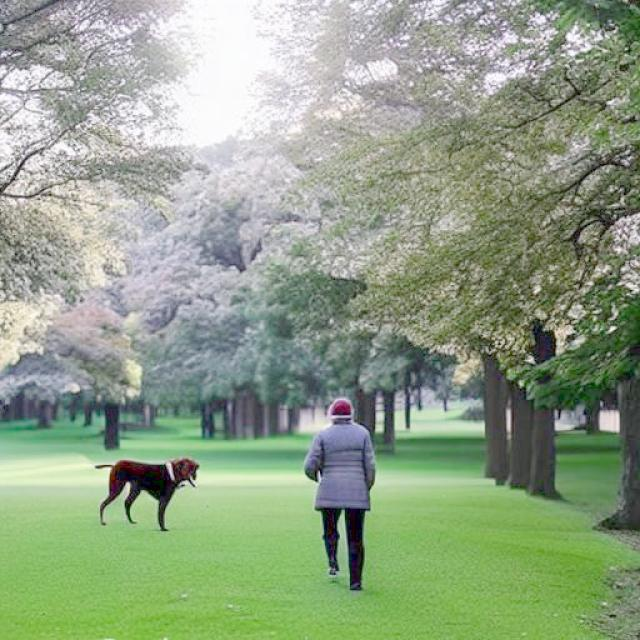Unleashed_Dog: (93, 456, 364, 533)
